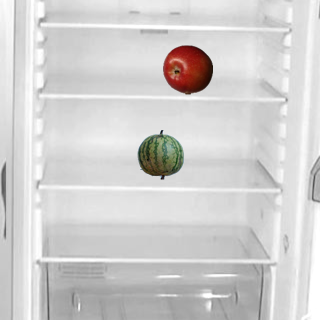Apple Braeburn: (162, 44, 212, 94)
Watermelon: (135, 129, 185, 179)
